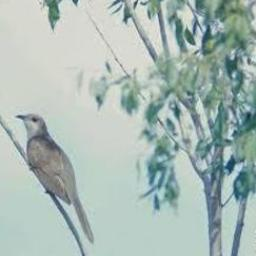Cuckoo: (15, 114, 94, 244)
